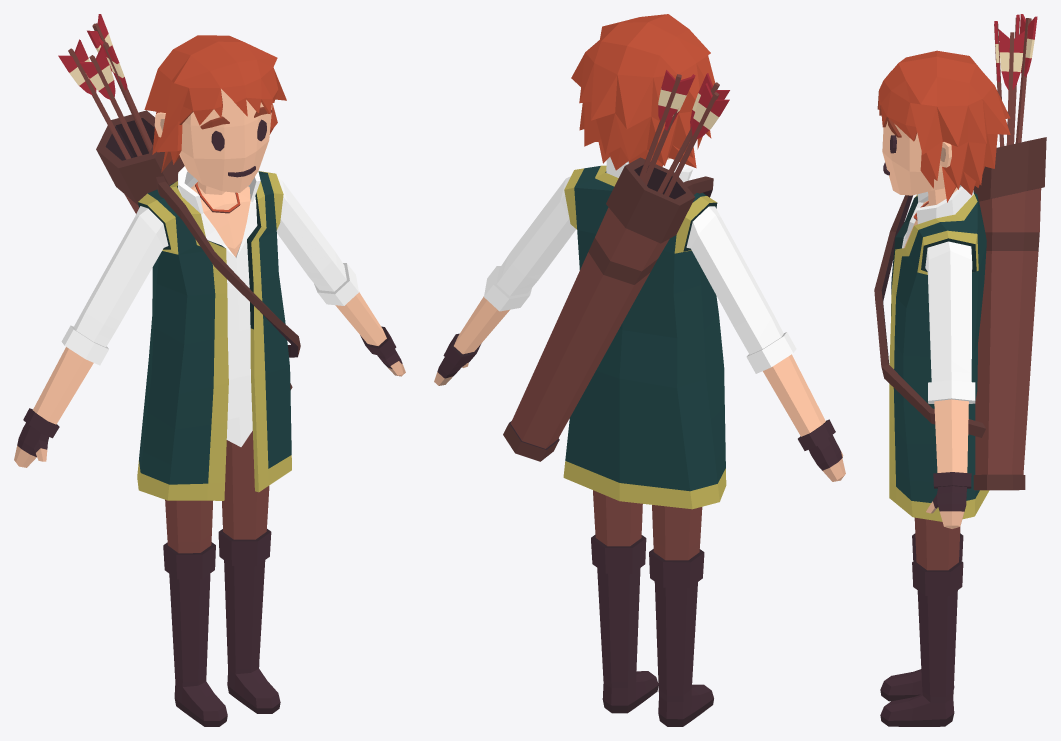
File: Archer.gltf
The picture shows the model from 3 angles, left to right: view 1: azimuth 30°, elevation 25°; view 2: azimuth 150°, elevation 25°; view 3: azimuth 270°, elevation 25°; orthographic projection. The views are drawn at different scales.
Visible parts, largest first — view 1: body_0, hair_5, arrow_bag_8, arrows_9, eyes_2; view 2: body_0, arrow_bag_8, hair_5, arrows_9; view 3: body_0, arrow_bag_8, hair_5, arrows_9.
Part boxes in pixels (box(x1,y1,x2,y2)): body_0: box(14, 89, 405, 726); hair_5: box(144, 35, 286, 172); arrow_bag_8: box(96, 110, 300, 389); arrows_9: box(58, 14, 152, 159); eyes_2: box(200, 107, 272, 151); body_0: box(434, 157, 845, 726); arrow_bag_8: box(503, 157, 713, 461); hair_5: box(571, 14, 715, 170); arrows_9: box(639, 70, 729, 196); body_0: box(880, 121, 989, 726); arrow_bag_8: box(874, 137, 1046, 490); hair_5: box(877, 50, 1010, 202); arrows_9: box(994, 14, 1037, 146).
Size of the model in its own units: 2.77 by 4.55 by 1.08.
